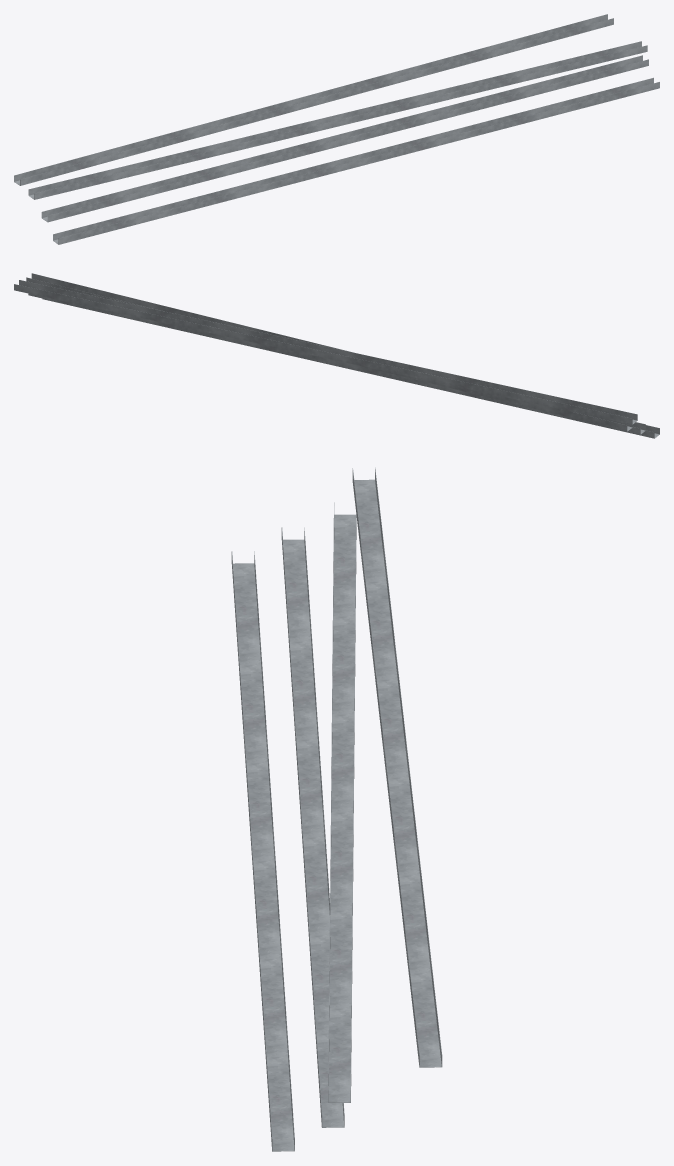
Rendered from ALV-DRY-005_anim.glb.
The picture shows the model from 3 angles, top to bottom: view 1: azimuth 30°, elevation 25°; view 2: azimuth 150°, elevation 25°; view 3: azimuth 270°, elevation 25°; orthographic projection. The views are drawn at different scales.
Parts seen in each view (by area): view 1: ALV-DRY-005_anim2, ALV-DRY-005_anim1, ALV-DRY-005_anim0, ALV-DRY-005_anim3; view 2: ALV-DRY-005_anim3, ALV-DRY-005_anim2, ALV-DRY-005_anim1, ALV-DRY-005_anim0; view 3: ALV-DRY-005_anim3, ALV-DRY-005_anim0, ALV-DRY-005_anim2, ALV-DRY-005_anim1.
Part boxes in pixels (bbox=[...]): ALV-DRY-005_anim2: bbox=[28, 41, 647, 199]; ALV-DRY-005_anim1: bbox=[41, 55, 648, 222]; ALV-DRY-005_anim0: bbox=[53, 77, 659, 244]; ALV-DRY-005_anim3: bbox=[14, 14, 613, 185]; ALV-DRY-005_anim3: bbox=[14, 280, 637, 424]; ALV-DRY-005_anim2: bbox=[26, 273, 632, 431]; ALV-DRY-005_anim1: bbox=[28, 293, 645, 434]; ALV-DRY-005_anim0: bbox=[42, 298, 659, 438]; ALV-DRY-005_anim3: bbox=[352, 467, 442, 1067]; ALV-DRY-005_anim0: bbox=[231, 551, 294, 1151]; ALV-DRY-005_anim2: bbox=[328, 502, 356, 1102]; ALV-DRY-005_anim1: bbox=[281, 527, 344, 1127].
Size of the model in its own units: 3.05 by 0.21 by 0.4536.
Materials: 1 (1 with a texture image).
